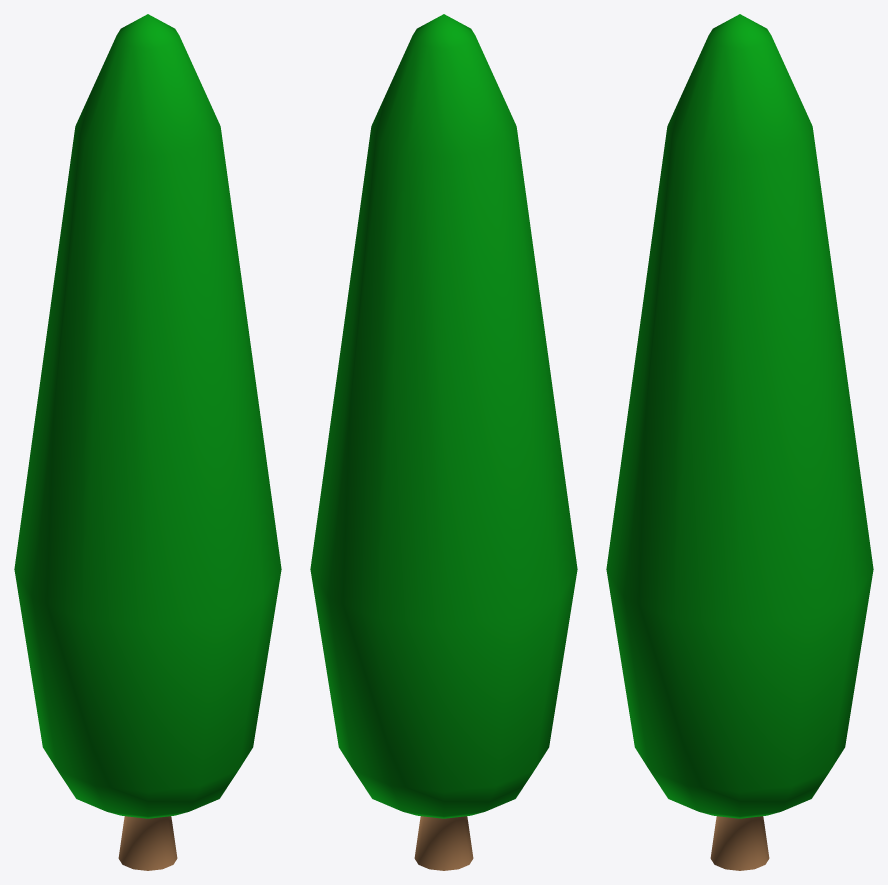
Rendered from cypress.fbx.
The picture shows the model from 3 angles, left to right: view 1: azimuth 30°, elevation 25°; view 2: azimuth 150°, elevation 25°; view 3: azimuth 270°, elevation 25°; orthographic projection.
Visible parts, largest first — view 1: кипарис; view 2: кипарис; view 3: кипарис.
Boxes of the visible parts, x1,y1,x2,y2 form: кипарис: [14, 14, 281, 870]; кипарис: [310, 14, 577, 870]; кипарис: [606, 14, 873, 870].
Size of the model in its own units: 41.36 by 144 by 41.36.
